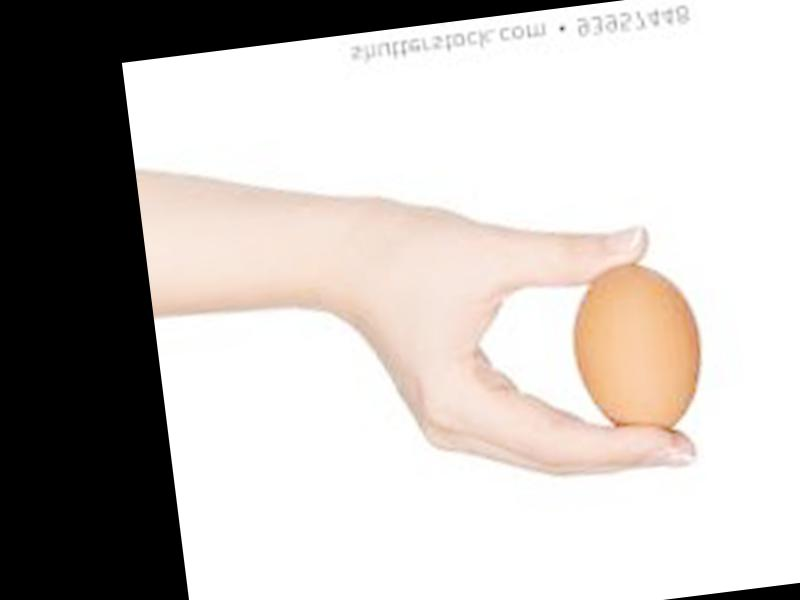Eggs: (566, 255, 711, 449)
